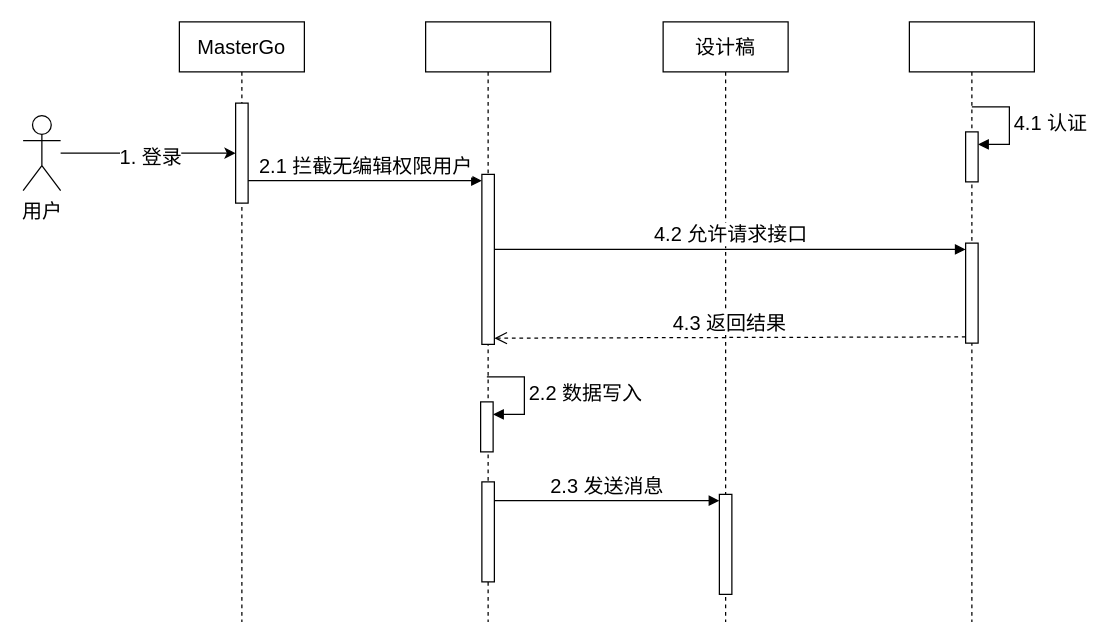
The diagram is 1108 pixels wide and 644 high, and some of its shapes have lost their labels. Here are the shapes that lost their labels. From the top down, the box of each, then its label:
(424, 21, 551, 622): 图表插件
(908, 21, 1034, 622): CCODE
